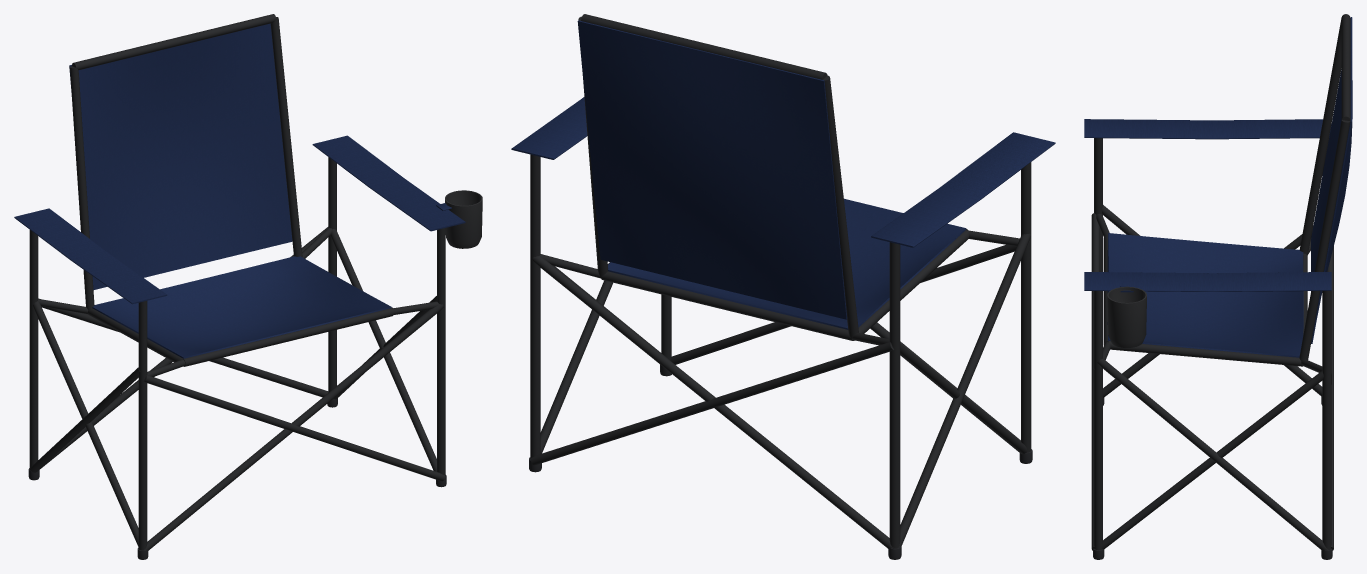
The model's file is folding-camp-chair.glb.
The picture shows the model from 3 angles, left to right: view 1: azimuth 30°, elevation 25°; view 2: azimuth 150°, elevation 25°; view 3: azimuth 270°, elevation 25°; orthographic projection. The views are drawn at different scales.
Parts seen in each view (by area): view 1: Seat and back fabric, Steel frame; view 2: Seat and back fabric, Steel frame; view 3: Seat and back fabric, Steel frame.
Boxes of the visible parts, x1=… form: Seat and back fabric: x1=14, y1=23, x2=482, y2=358; Steel frame: x1=28, y1=14, x2=446, y2=559; Seat and back fabric: x1=511, y1=20, x2=1055, y2=329; Steel frame: x1=529, y1=14, x2=1032, y2=559; Seat and back fabric: x1=1084, y1=17, x2=1352, y2=357; Steel frame: x1=1091, y1=14, x2=1350, y2=559.
Size of the model in its own units: 0.939 by 0.965 by 0.5639.
4 materials, 4 textured.
